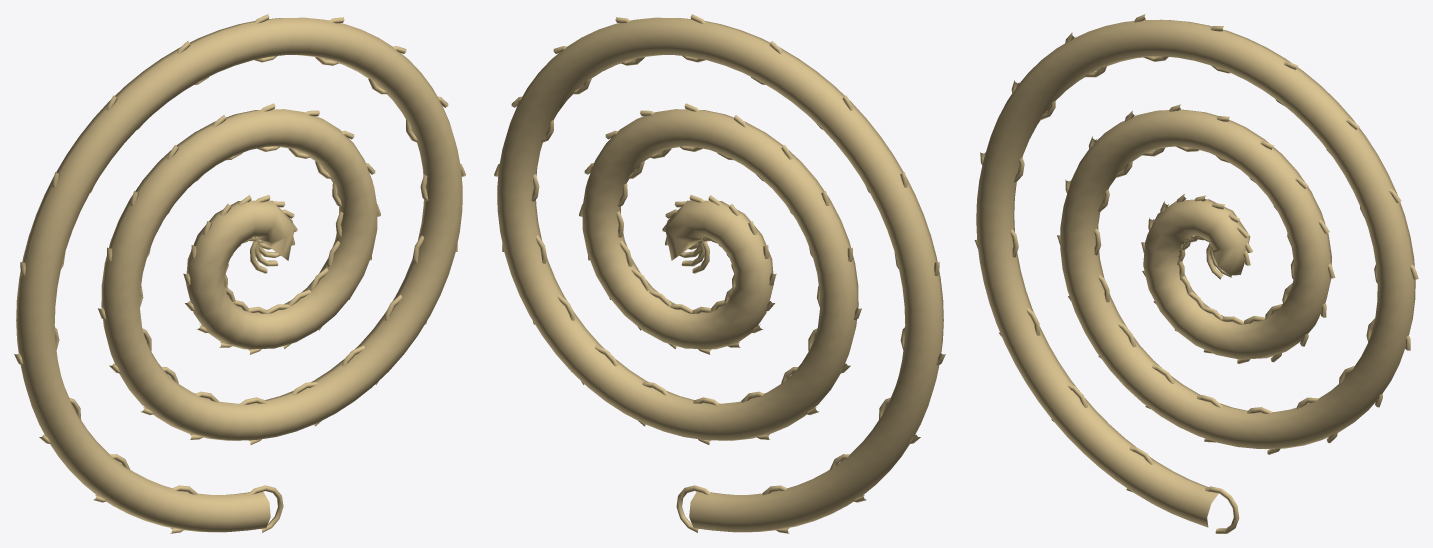
File: ammonite.glb
3 views of the same model, side by side, from view 1: azimuth 30°, elevation 25°; view 2: azimuth 150°, elevation 25°; view 3: azimuth 330°, elevation 25° (orthographic).
Bounding box in the file's own units: 1.56 × 1.71 × 0.12.
